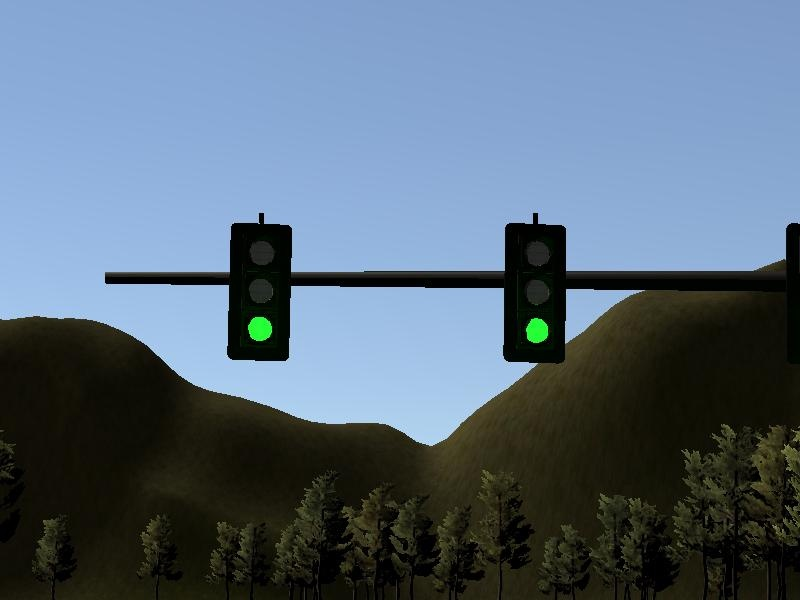traffic_light_green: (204, 212, 800, 366)
